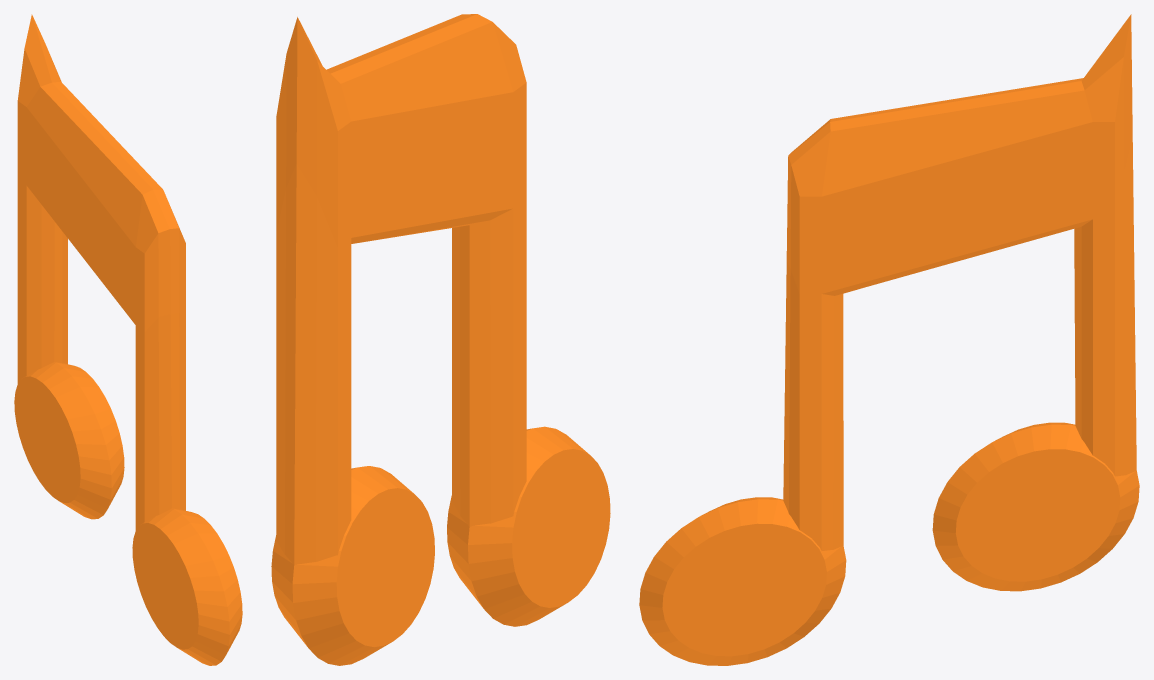
Rendered from proj3.glb.
3 views of the same model, side by side, from view 1: azimuth 30°, elevation 25°; view 2: azimuth 150°, elevation 25°; view 3: azimuth 270°, elevation 25° (orthographic). The views are drawn at different scales.
Parts seen in each view (by area): view 1: Plane.001; view 2: Plane.001; view 3: Plane.001.
Boxes of the visible parts, box(x1,y1,x2,y2) form: Plane.001: box(14, 14, 242, 665); Plane.001: box(271, 14, 610, 665); Plane.001: box(639, 14, 1139, 665).
Bounding box in the file's own units: 0.3052 × 3.49 × 2.43.
